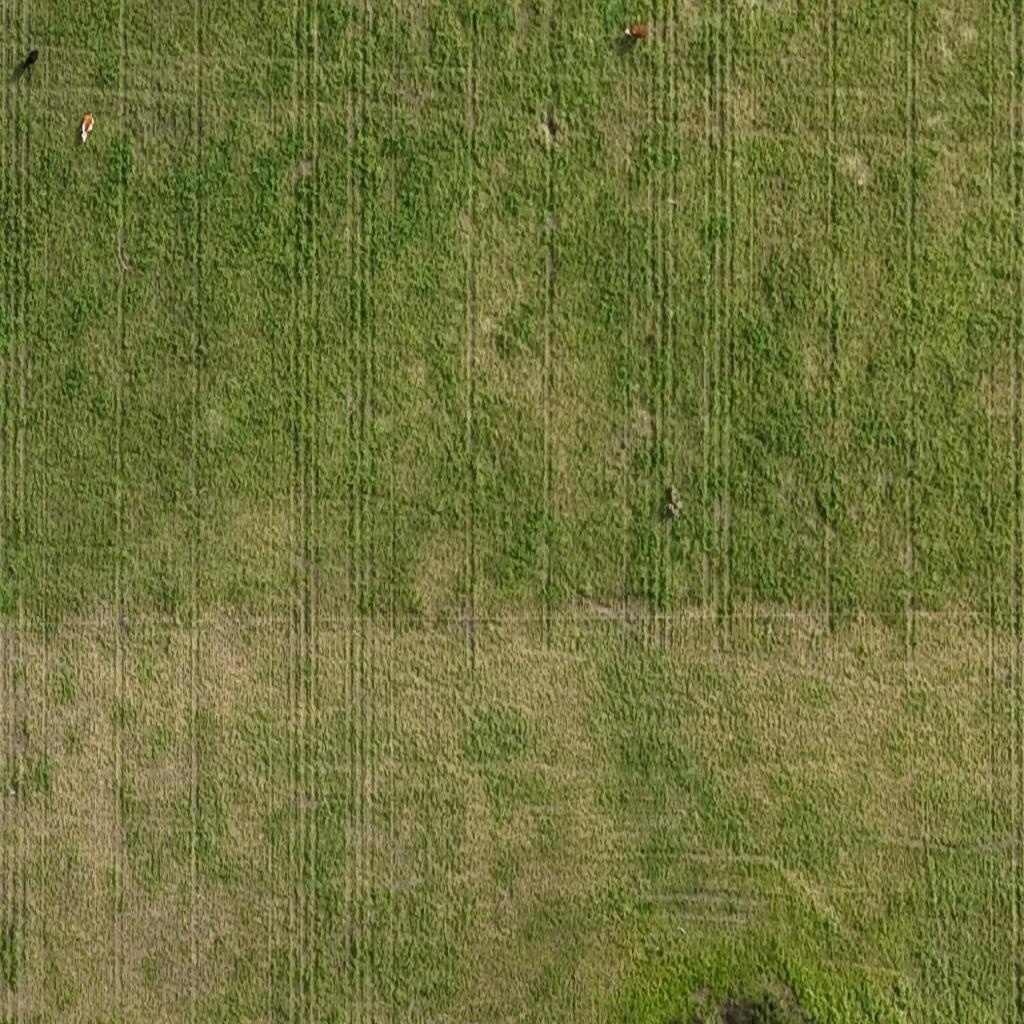cow: (20, 49, 40, 83), (78, 108, 96, 145), (624, 21, 648, 45)
